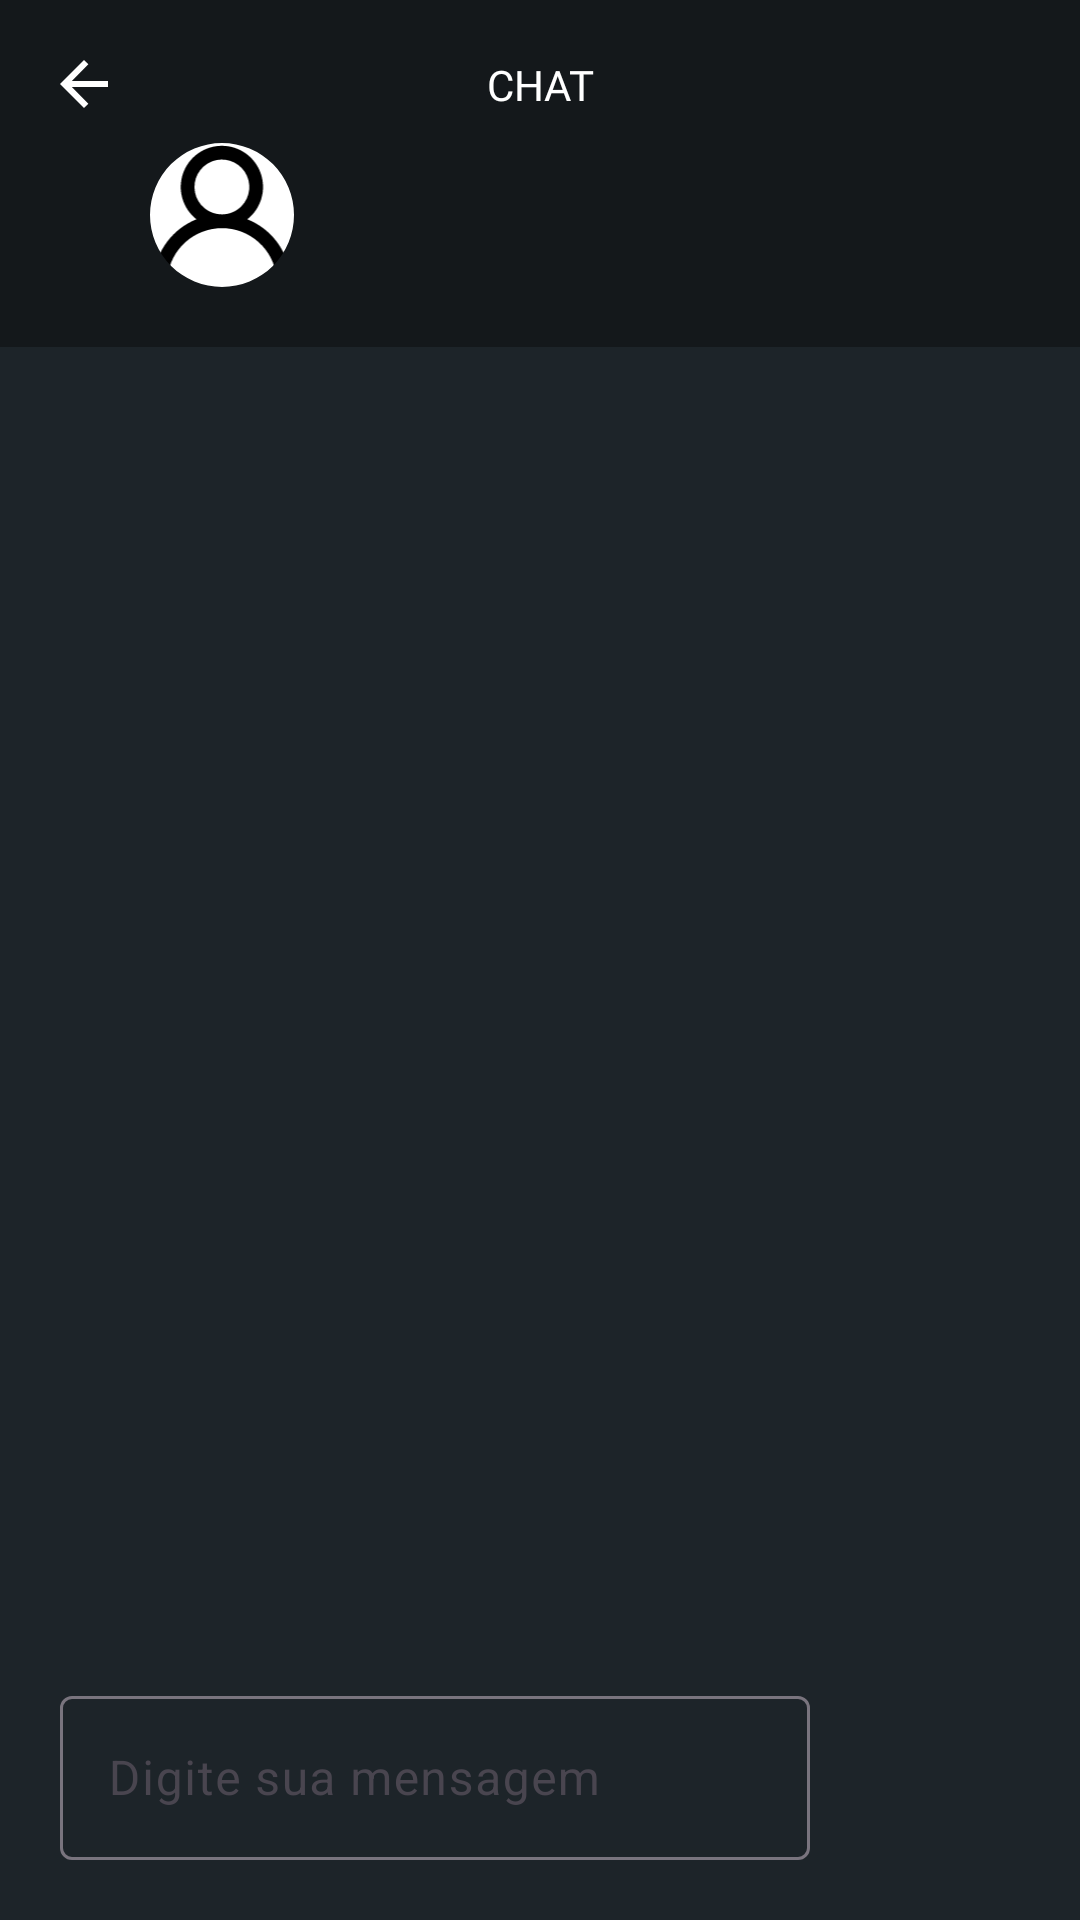

Icons on this 1080×1920 Android screen, each with its box as bbox(x1, y1, x2, y2):
left arrow: bbox(60, 60, 108, 108)
profile: bbox(150, 143, 294, 287)
